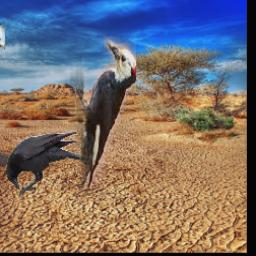Crow: (5, 131, 86, 197)
Cuckoo: (0, 0, 5, 49)
Woodpecker: (71, 36, 137, 189)
